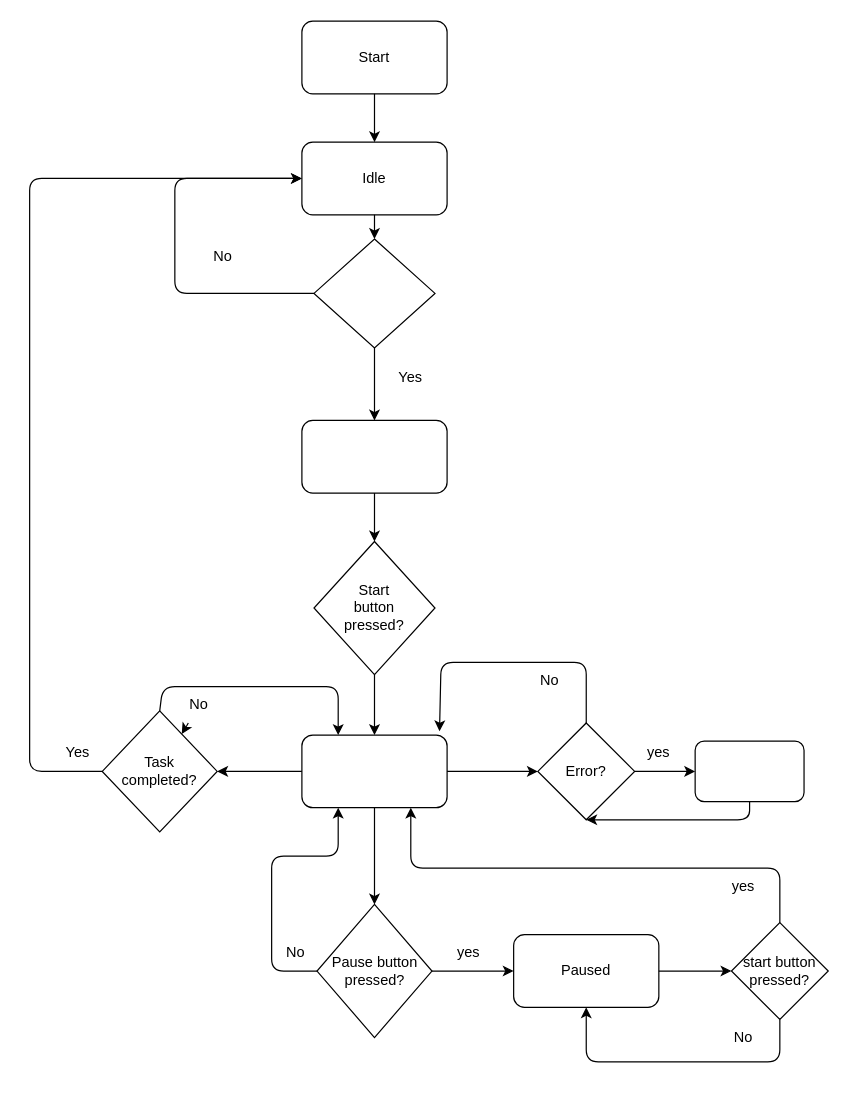
This 849x1093 diagram has some shape labels left out. The centre of each missing label's shape, as x and y in pixels:
Fix error: point (749, 771)
Running: point (374, 771)
Setup: point (374, 456)
setup button pressed?: point (374, 293)
